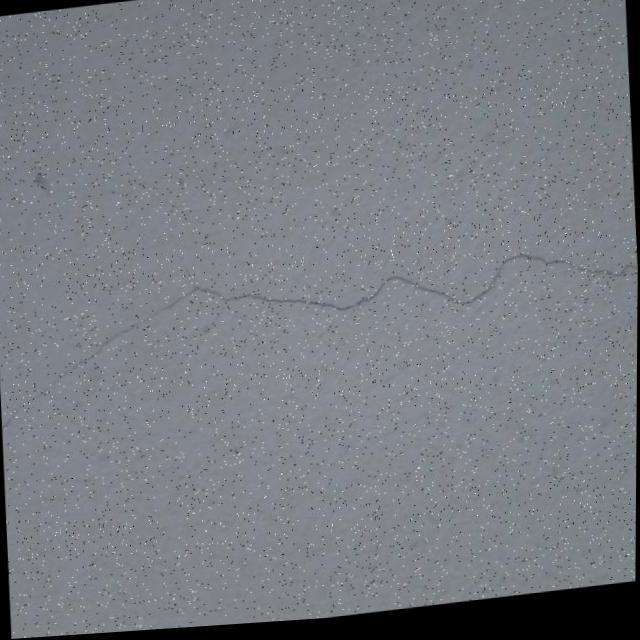Crack: (0, 228, 631, 446)
